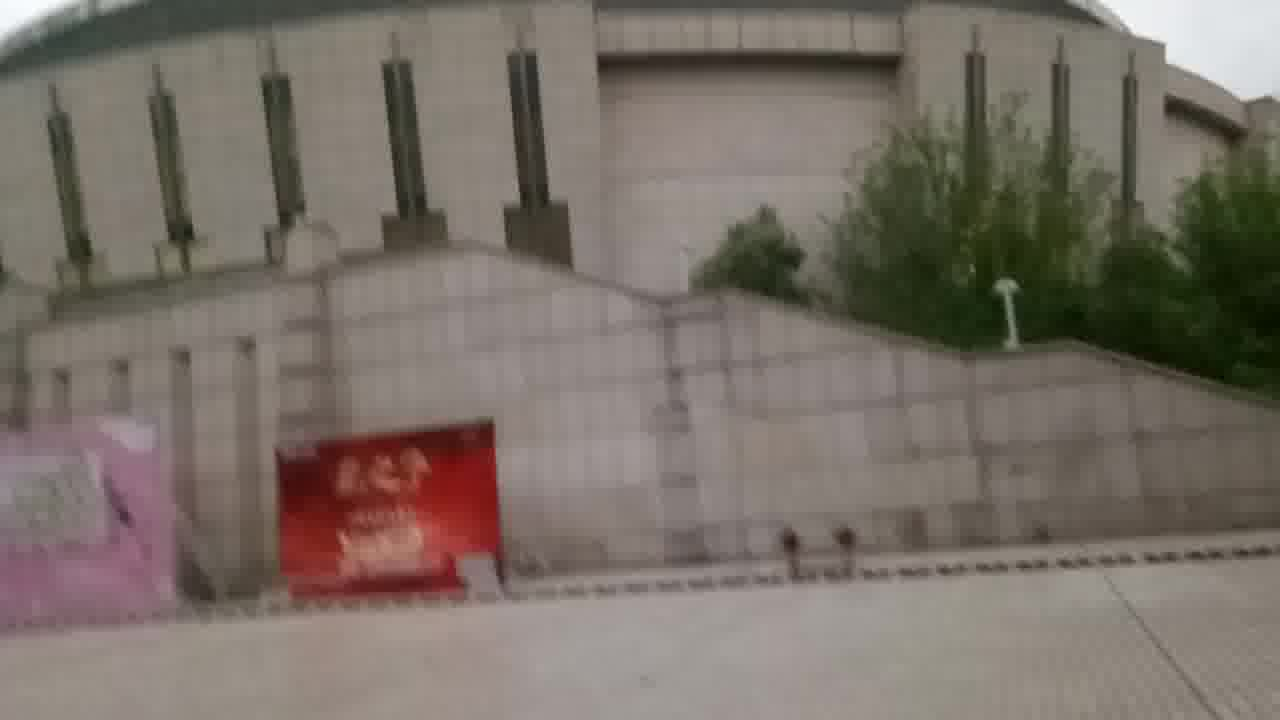zhongtiww: (1, 2, 1280, 589)
